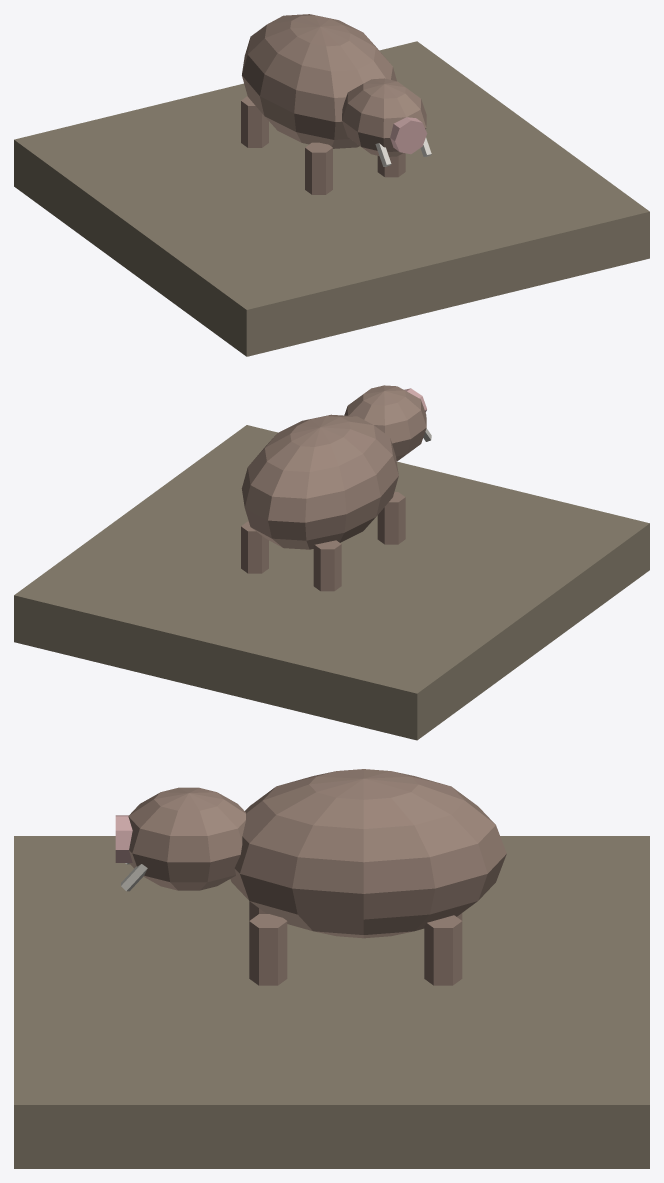
File: orc_boar.glb
The picture shows the model from 3 angles, top to bottom: view 1: azimuth 30°, elevation 25°; view 2: azimuth 150°, elevation 25°; view 3: azimuth 270°, elevation 25°; orthographic projection. The views are drawn at different scales.
Visible parts, largest first — view 1: Base, TurretMesh, HeadMesh; view 2: Base, TurretMesh, HeadMesh; view 3: Base, TurretMesh, HeadMesh.
Boxes of the visible parts, x1,y1,x2,y2 form: Base: (14, 41, 649, 356); TurretMesh: (241, 14, 405, 194); HeadMesh: (342, 78, 431, 166); Base: (14, 425, 649, 740); TurretMesh: (241, 414, 405, 591); HeadMesh: (344, 385, 431, 461); Base: (14, 836, 649, 1168); TurretMesh: (230, 769, 506, 985); HeadMesh: (115, 787, 245, 891).
Size of the model in its own units: 1.8 by 0.799 by 1.8.
